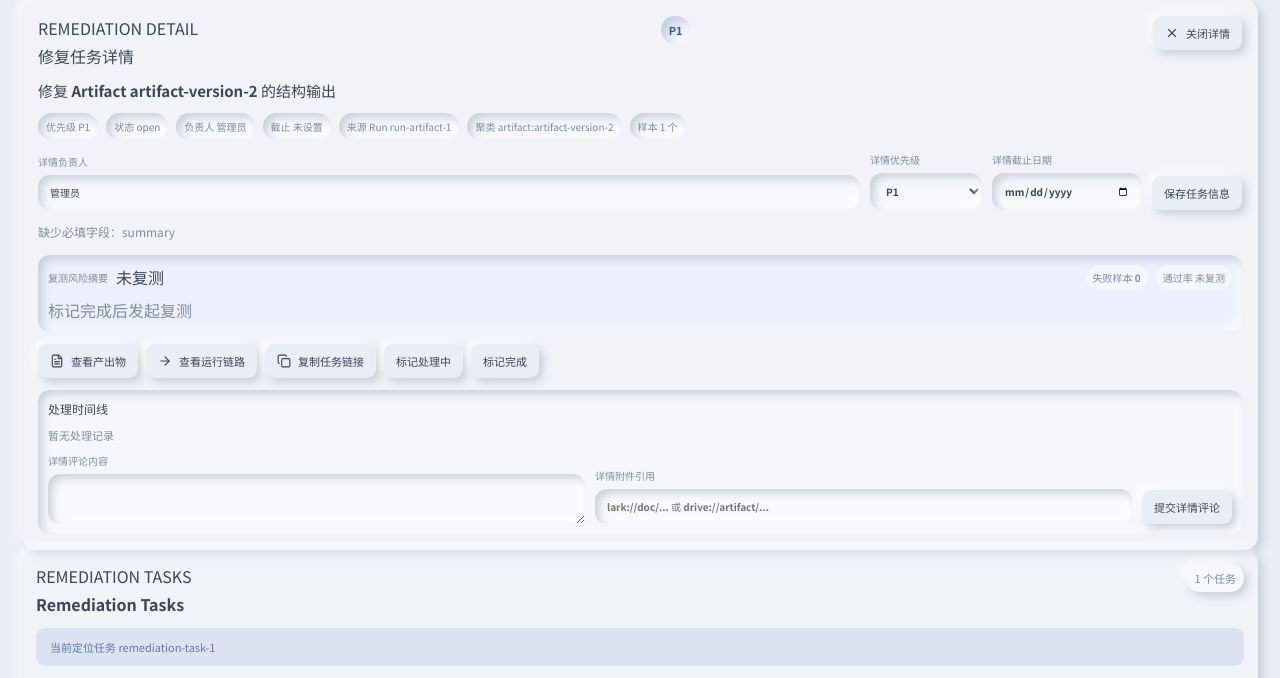
QualityOperations page › copies the remediation task detail link
The image size is (1280, 678).
(page scrolled)
Click the button "复制任务链接". click: {"x": 320, "y": 361}
box: [265,344,376,378]
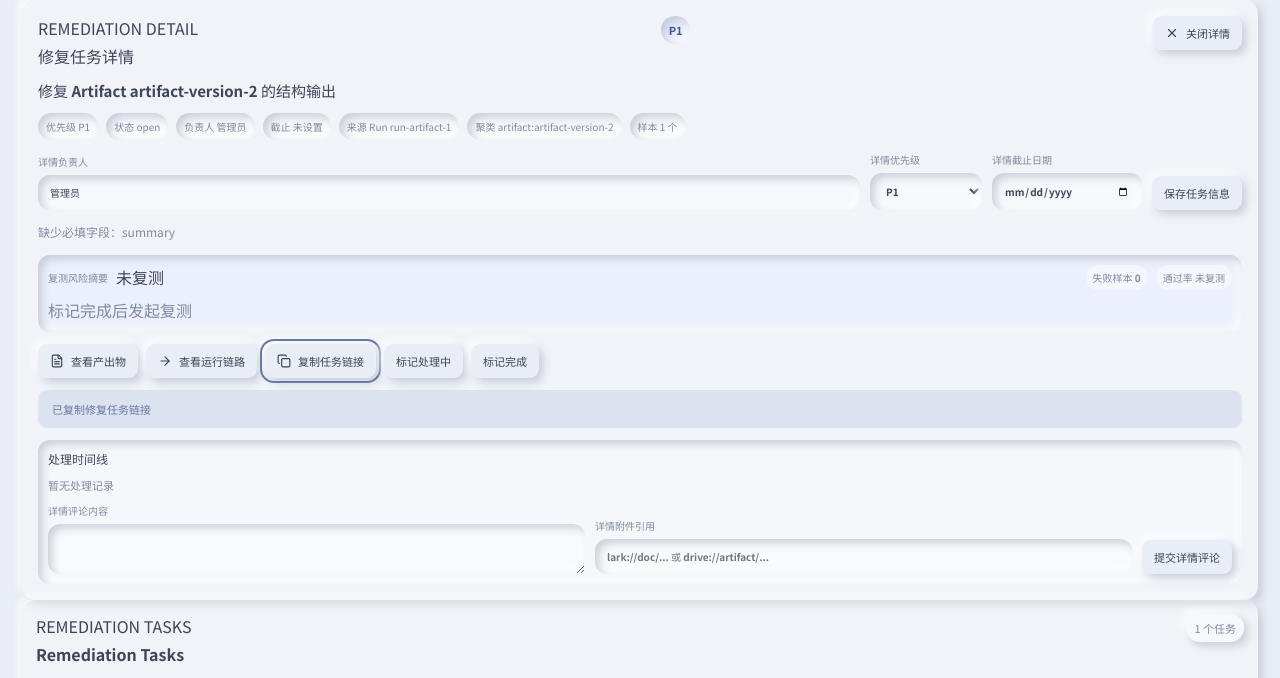
Check: the text "已复制修复任务链接" is shown, box [38,390,1242,428]
